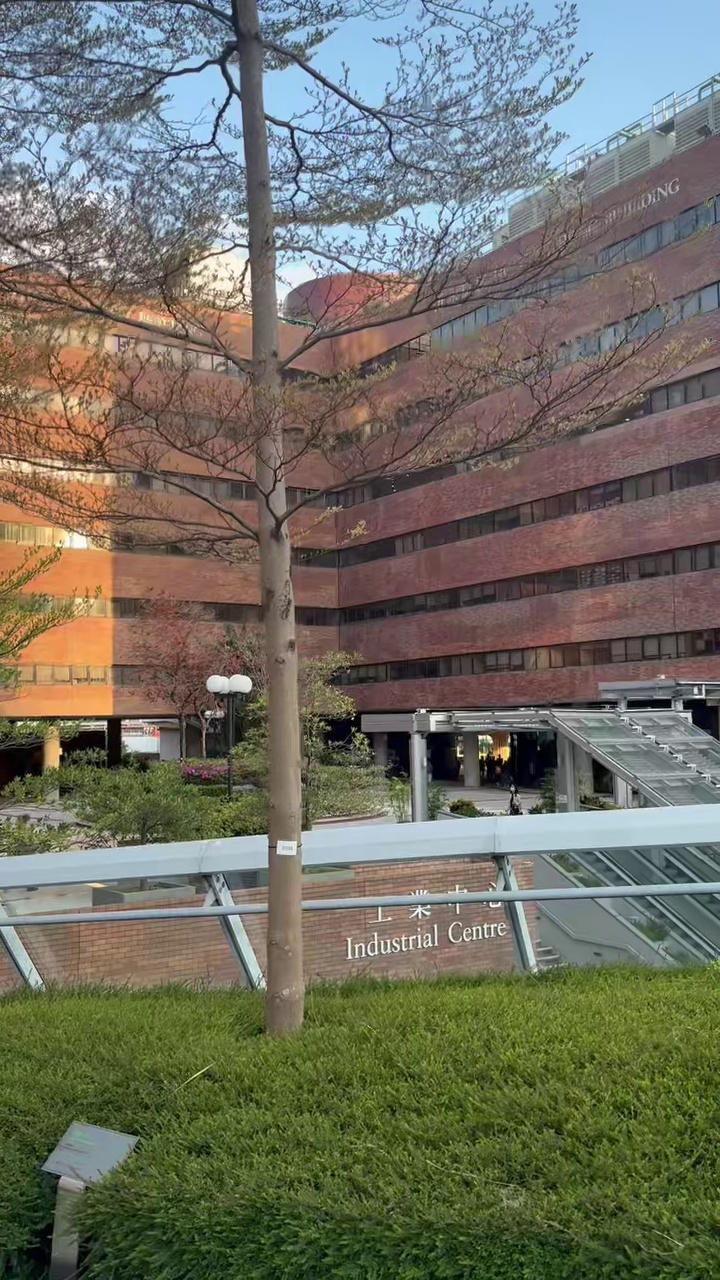Terminalia mantaly: (0, 0, 605, 1033)
